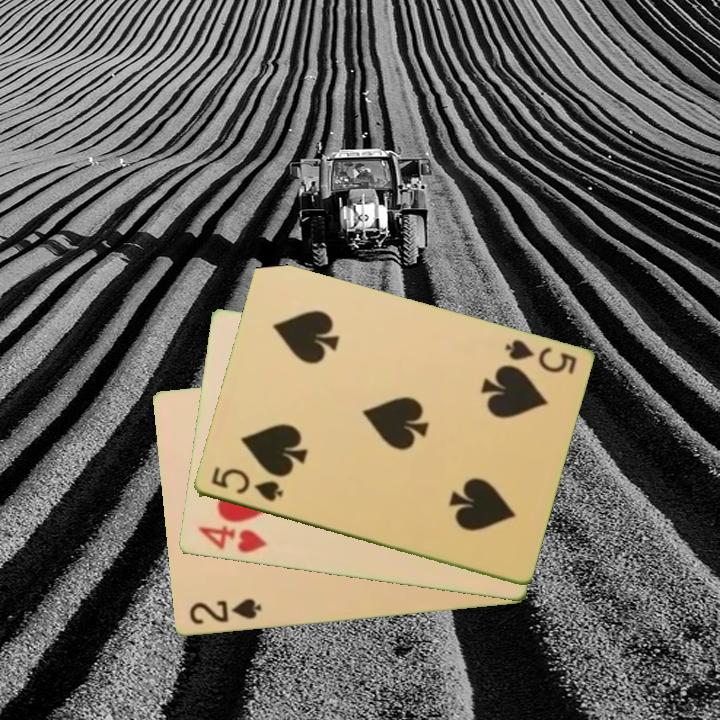2s: (185, 595, 264, 628)
4h: (194, 522, 269, 556)
5s: (500, 336, 579, 378), (207, 464, 286, 505)
